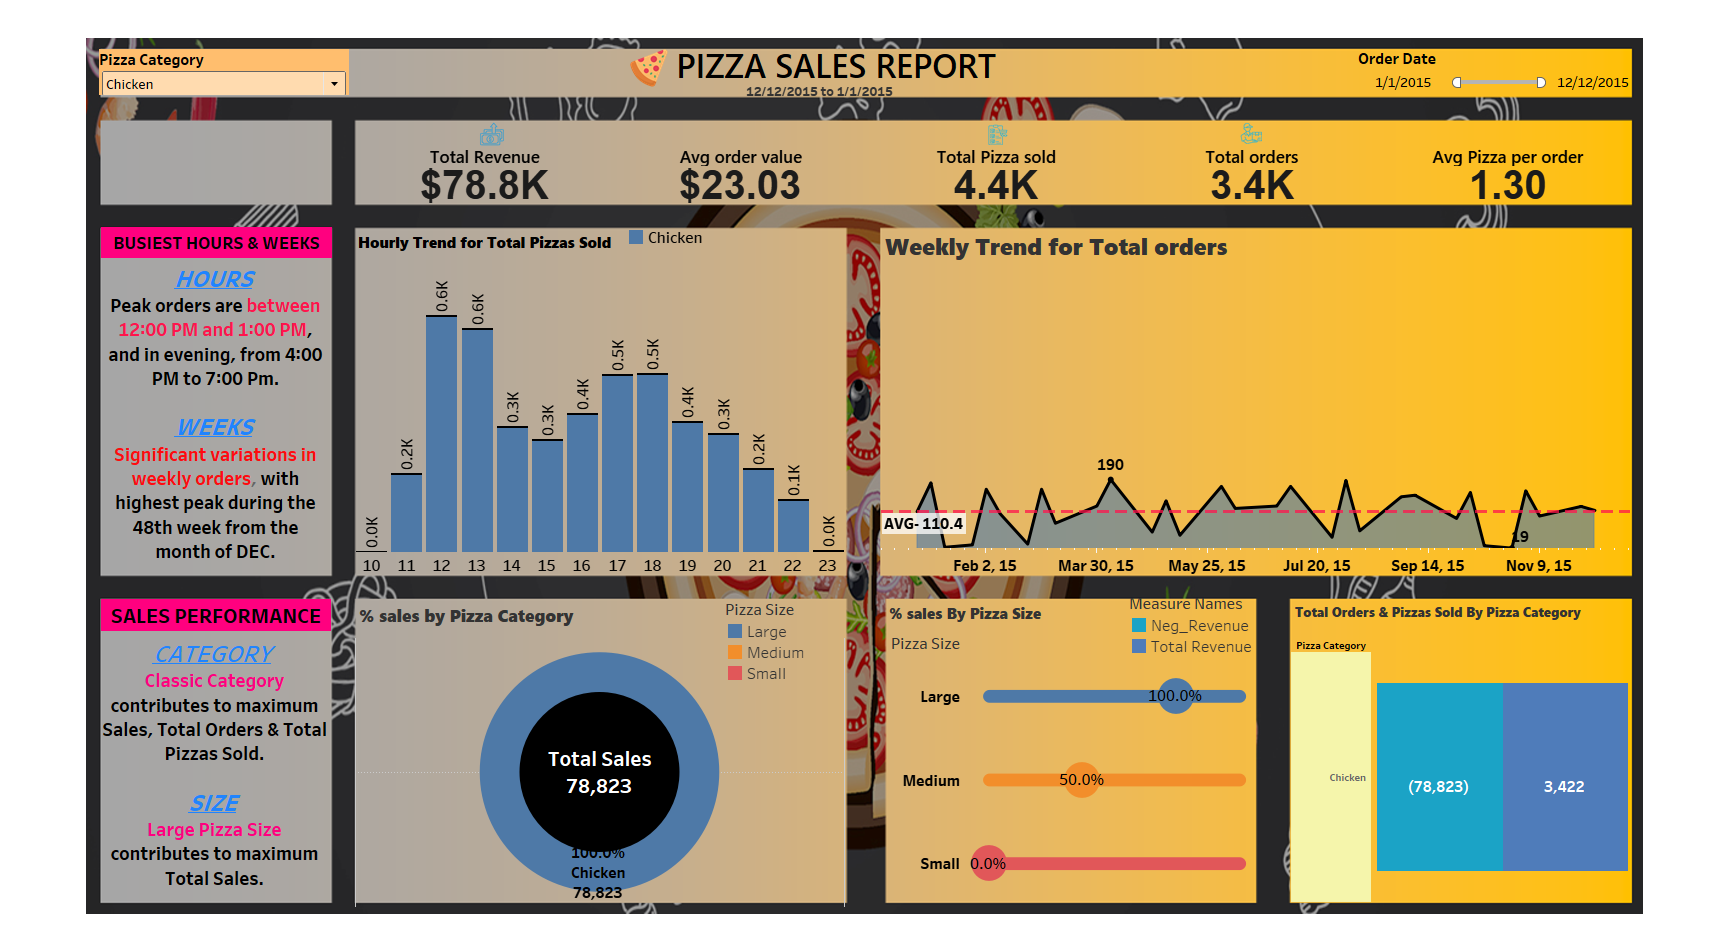

What the dashboard file says about the page in this screenshot:
{"tool":"tableau","page":{"name":"Dashboard 1","canvas":[1600,900],"ordinal":0},"visuals":[{"type":"image","param":"C:/Users/salma/OneDrive/Desktop/Tableau_Data/pizza_sales_background.png","box":[8,8,1584,884]},{"type":"image","param":"D:/Downloads/Tableau Tutorial -20241008T174154Z-001/Tableau Tutorial/Pizza Sales","box":[562,22,44,39]},{"type":"text","box":[608,22,327,32]},{"type":"filter","title":"Hourly Trend forTotal Pizzas sold","param":"[federated.0jikpc61xjph9s16az8lp0pm8ctw].[none:order_date:qk]","box":[1293,22,282,50]},{"type":"filter","title":"Hourly Trend forTotal Pizzas sold","param":"[federated.0jikpc61xjph9s16az8lp0pm8ctw].[none:pizza_category:nk]","box":[34,23,250,46]},{"type":"worksheet","title":"Date Range","mark":"Automatic","box":[644,61,222,9]},{"type":"image","param":"D:/Downloads/Tableau Tutorial -20241008T174154Z-001/Tableau Tutorial/Pizza Sales","box":[394,94,65,27]},{"type":"image","param":"D:/Downloads/Tableau Tutorial -20241008T174154Z-001/Tableau Tutorial/Pizza Sales","box":[1170,96,33,22]},{"type":"image","param":"D:/Downloads/Tableau Tutorial -20241008T174154Z-001/Tableau Tutorial/Pizza Sales","box":[909,98,47,21]},{"type":"worksheet","title":"KPI","mark":"Automatic","box":[292,120,1279,59]},{"type":"worksheet","title":"Weekly Trend for Total orders","mark":"Area","rows":["Calculation_2512445645265821696","Calculation_2512445645265821696"],"cols":["order_date"],"box":[816,200,749,352]},{"type":"text","box":[36,201,231,31]},{"type":"legend","title":"Hourly Trend forTotal Pizzas sold","param":"[federated.0jikpc61xjph9s16az8lp0pm8ctw].[none:pizza_category:nk]","box":[561,201,252,48]},{"type":"worksheet","title":"Hourly Trend forTotal Pizzas sold","mark":"Bar","rows":["Calculation_2512445645267087363","Calculation_2512445645267087363"],"cols":["order_time"],"box":[289,202,492,349]},{"type":"text","box":[37,231,227,319]},{"type":"legend","title":"Butterfly chart","param":"[federated.0jikpc61xjph9s16az8lp0pm8ctw].[:Measure Names]","box":[1064,567,140,64]},{"type":"text","box":[36,573,230,32]},{"type":"legend","title":"% sales By Pizza Size","param":"[federated.0jikpc61xjph9s16az8lp0pm8ctw].[none:pizza_size:nk]","box":[660,573,140,127]},{"type":"worksheet","title":"% sales By Pizza Size","mark":"Line","rows":["pizza_size"],"box":[820,573,373,307]},{"type":"worksheet","title":"Butterfly chart","mark":"Automatic","rows":["pizza_category"],"cols":["Calculation_2512445645965512715","Calculation_2512445645266391041"],"box":[1226,573,343,303]},{"type":"worksheet","title":"Percentage of Sales by Pizza Category","mark":"Pie","rows":["Calculation_2512445645935116294","Calculation_2512445645935165448"],"box":[290,574,490,307]},{"type":"text","box":[34,605,231,271]}]}

Visuals, with their boxes on the page's 1600x900 design canvas (x1, y1, x2, y2). These are canvas units, not pixel positions in the 1726x942 screenshot, which may show the page scaled, cropped or inside an application window:
image: Rect(8, 8, 1592, 892)
image: Rect(562, 22, 606, 61)
text: Rect(608, 22, 935, 54)
"Hourly Trend forTotal Pizzas sold" filter: Rect(1293, 22, 1575, 72)
"Hourly Trend forTotal Pizzas sold" filter: Rect(34, 23, 284, 69)
"Date Range" worksheet: Rect(644, 61, 866, 70)
image: Rect(394, 94, 459, 121)
image: Rect(1170, 96, 1203, 118)
image: Rect(909, 98, 956, 119)
"KPI" worksheet: Rect(292, 120, 1571, 179)
"Weekly Trend for Total orders" worksheet (Area marks): Rect(816, 200, 1565, 552)
text: Rect(36, 201, 267, 232)
"Hourly Trend forTotal Pizzas sold" legend: Rect(561, 201, 813, 249)
"Hourly Trend forTotal Pizzas sold" worksheet (Bar marks): Rect(289, 202, 781, 551)
text: Rect(37, 231, 264, 550)
"Butterfly chart" legend: Rect(1064, 567, 1204, 631)
text: Rect(36, 573, 266, 605)
"% sales By Pizza Size" legend: Rect(660, 573, 800, 700)
"% sales By Pizza Size" worksheet (Line marks): Rect(820, 573, 1193, 880)
"Butterfly chart" worksheet: Rect(1226, 573, 1569, 876)
"Percentage of Sales by Pizza Category" worksheet (Pie marks): Rect(290, 574, 780, 881)
text: Rect(34, 605, 265, 876)
